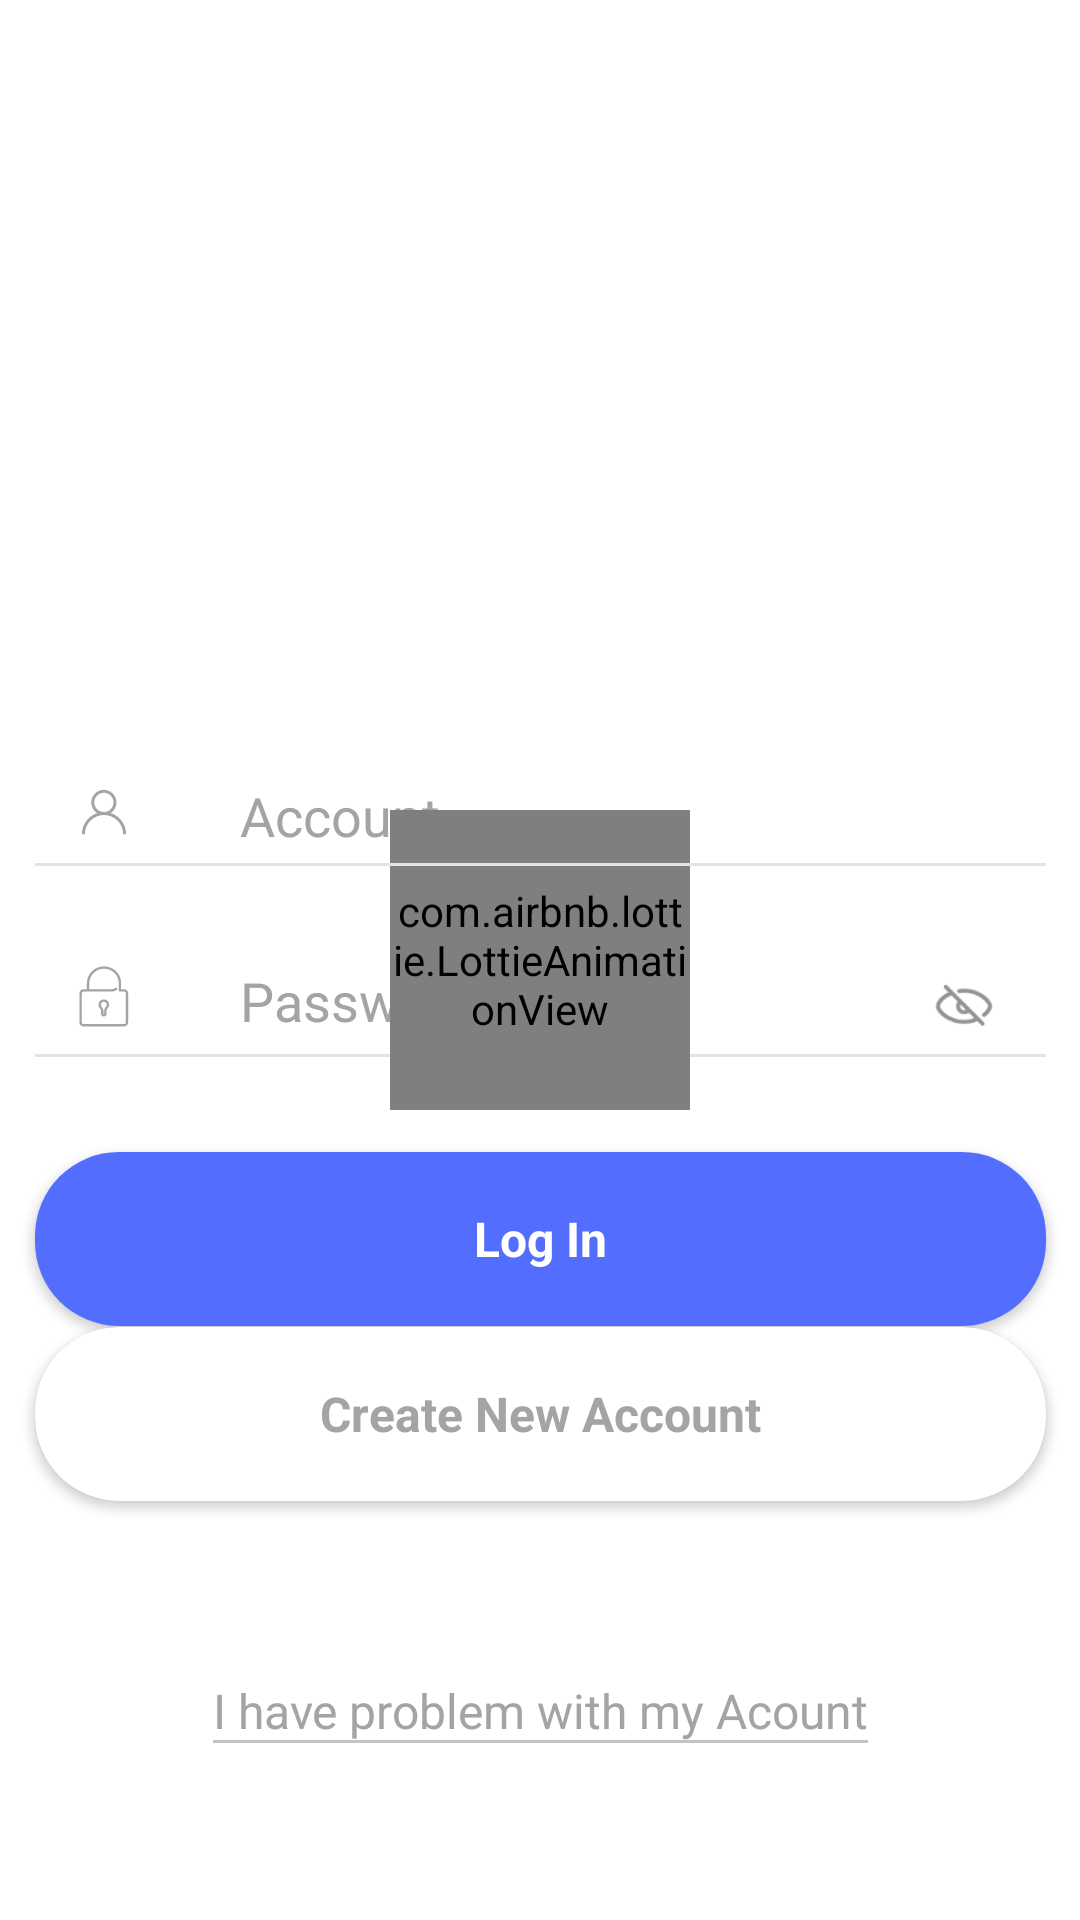

Icon bounding boxes for this 1080 x 1920 phone screenshot, format (x1, y1, x2, y2):
hide: (936, 985, 993, 1026)
mima: (79, 966, 128, 1027)
zhanghao: (82, 790, 126, 834)
